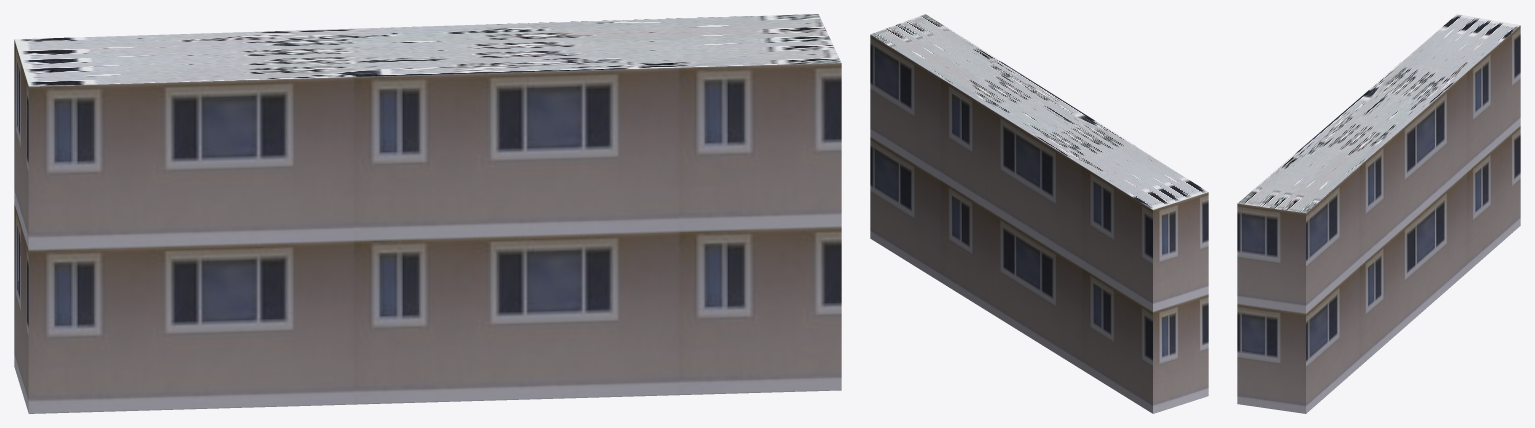
Rendered from ResTex__664.fbx.
3 renders of one model, left to right at view 1: azimuth 30°, elevation 25°; view 2: azimuth 150°, elevation 25°; view 3: azimuth 270°, elevation 25°, orthographic. The views are drawn at different scales.
Visible parts, largest first — view 1: CityEngineMaterial_21_m, CityEngineMaterial_8_m; view 2: CityEngineMaterial_21_m, CityEngineMaterial_8_m; view 3: CityEngineMaterial_21_m, CityEngineMaterial_8_m.
Part boxes in pixels (x1,y1,x2,y2): CityEngineMaterial_21_m: [14, 40, 841, 413]; CityEngineMaterial_8_m: [14, 14, 841, 86]; CityEngineMaterial_21_m: [870, 35, 1208, 413]; CityEngineMaterial_8_m: [870, 14, 1208, 209]; CityEngineMaterial_21_m: [1237, 25, 1520, 413]; CityEngineMaterial_8_m: [1238, 14, 1520, 213].
Bounding box in the file's own units: 12.78 × 6 × 7.67.
2 materials, 2 textured.
